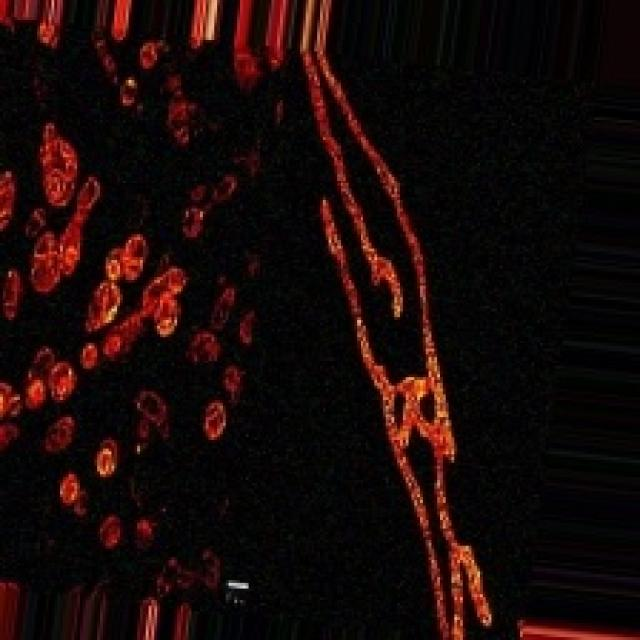Spherical_bacteria: (0, 0, 497, 637)
